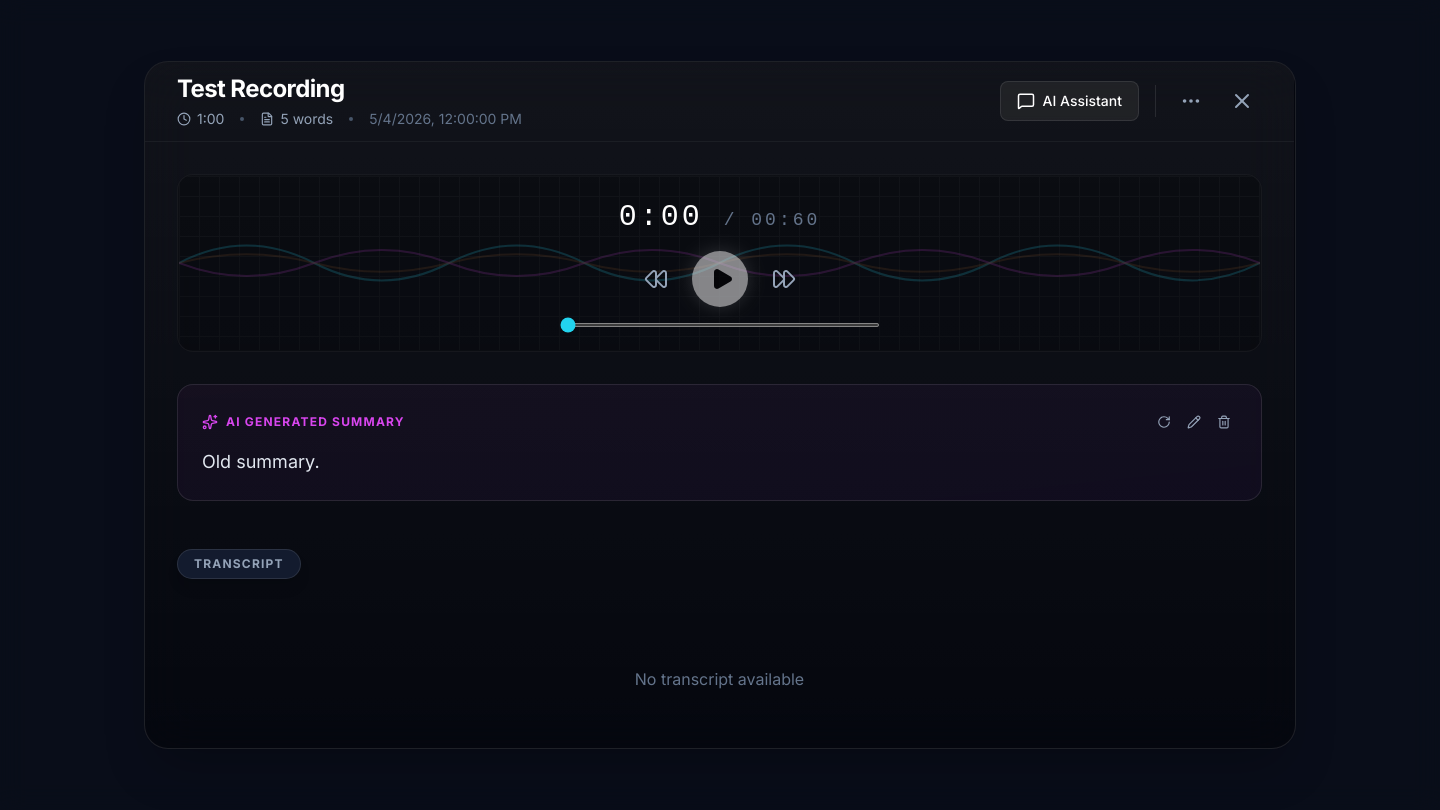
Test: AudioNoteModal — stored summary (GH-254) › a failed regeneration restores the previous summary
Click the button named "Regenerate summary".
click(1164, 422)  # box [1151,409,1177,435]
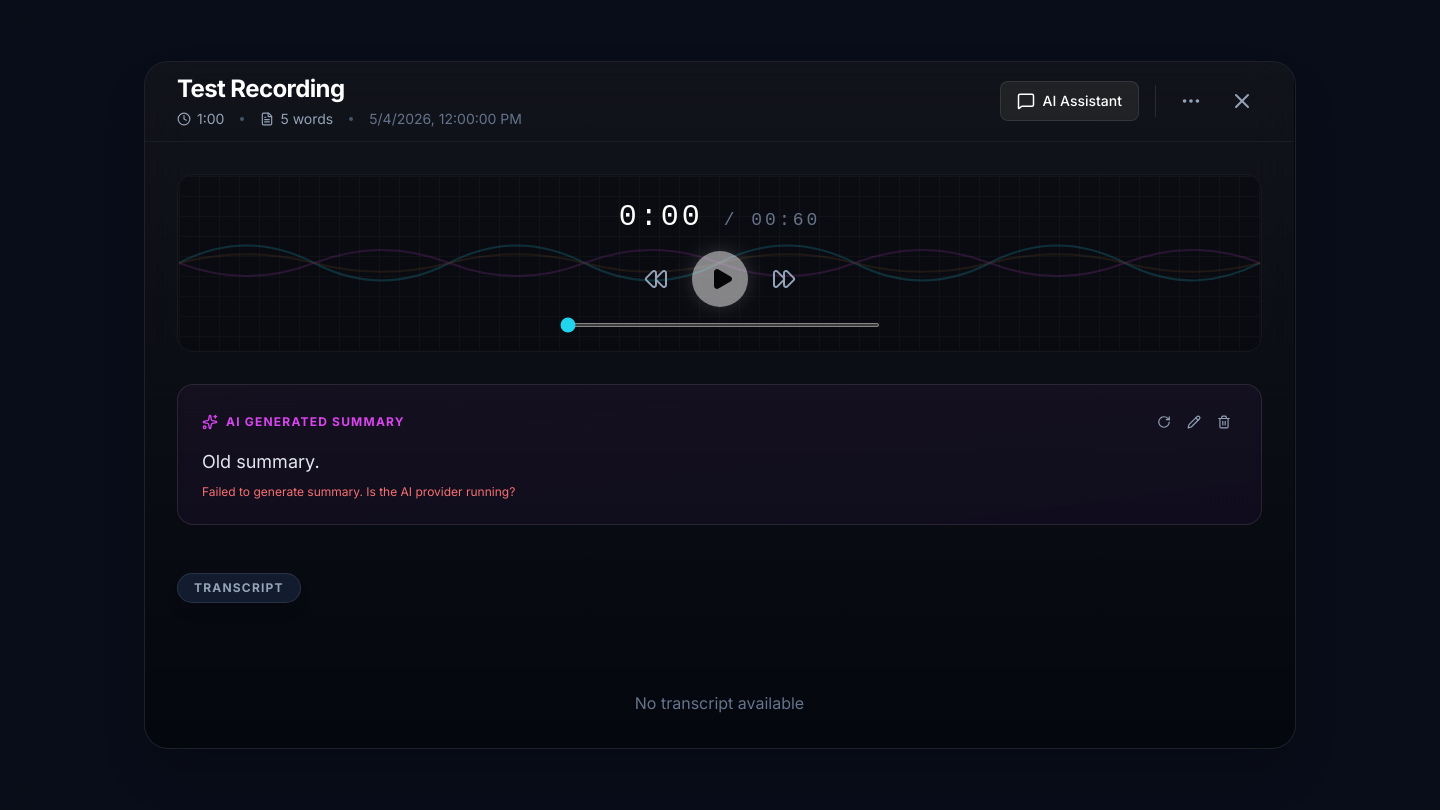
Expected: the text "Old summary." is shown, [202,451,320,472]
Expected: the text "Failed to generate summary" is shown, [202,484,515,499]
